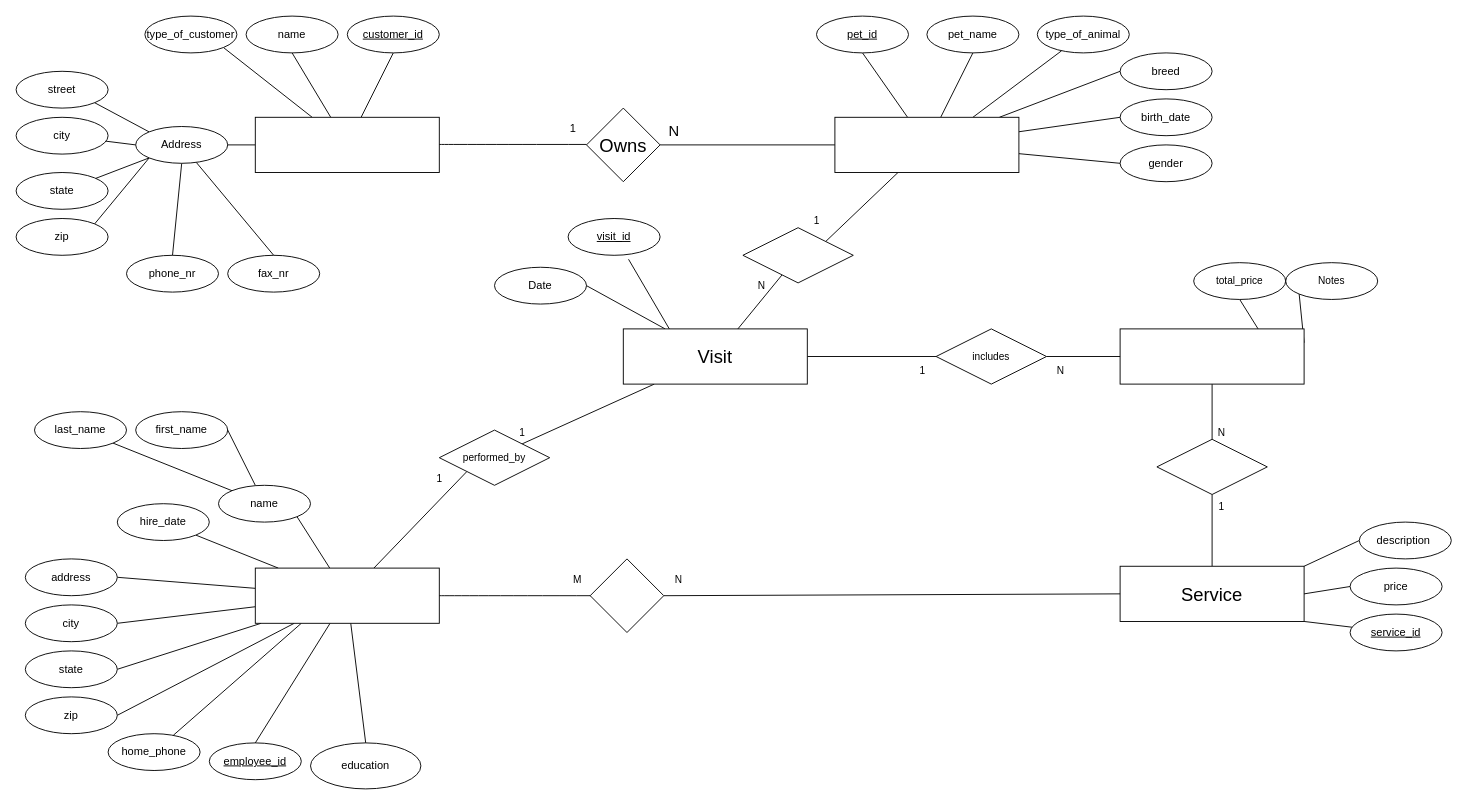
The diagram is 1467 pixels wide and 805 high, and some of its shapes have lost their labels. Here are the shapes that lost their labels. From the top down, the centre of each, then its label:
At (346,144): "Customers".
At (926,144): "Pet".
At (797,255): "gose_to".
At (1211,356): "Treatment".
At (1211,466): "provided_in".
At (346,595): "Employees".
At (626,595): "provides".
